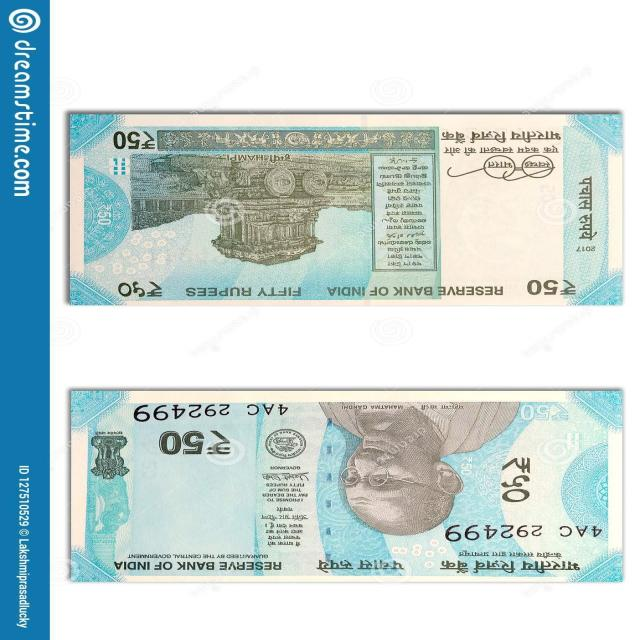50IndianRupees: (68, 113, 619, 305)
